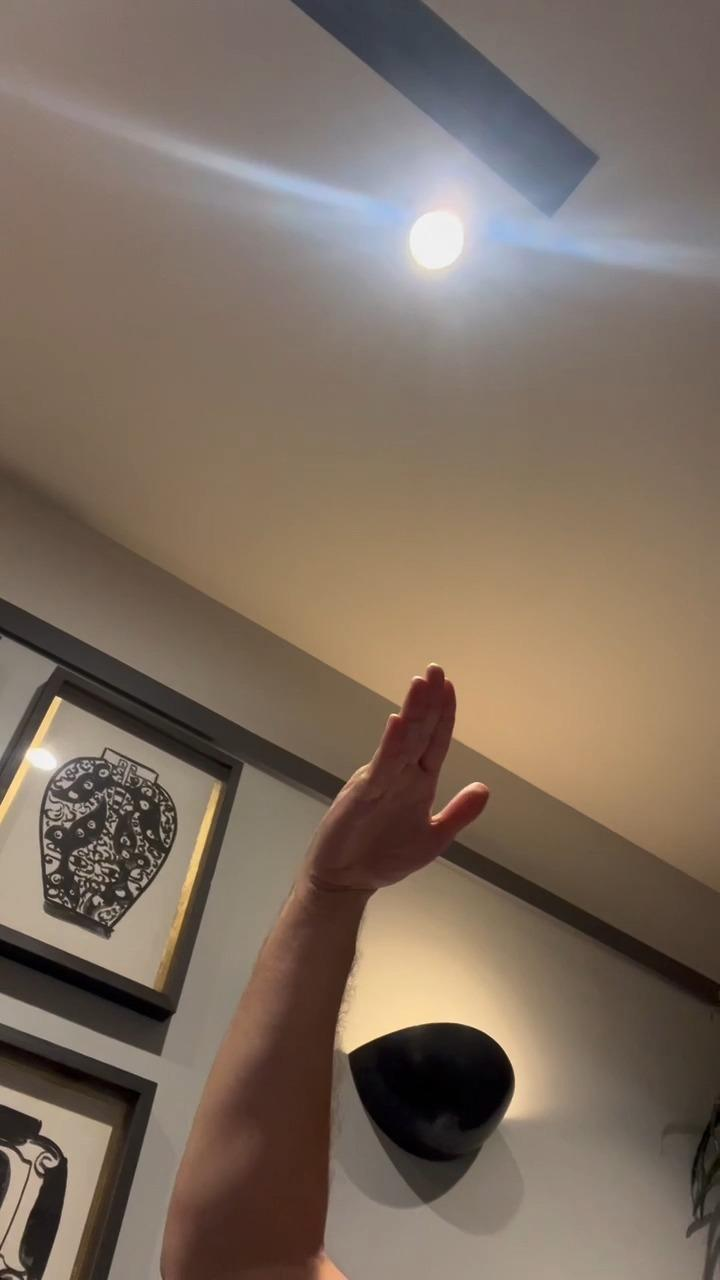Paper: (294, 660, 498, 893)
